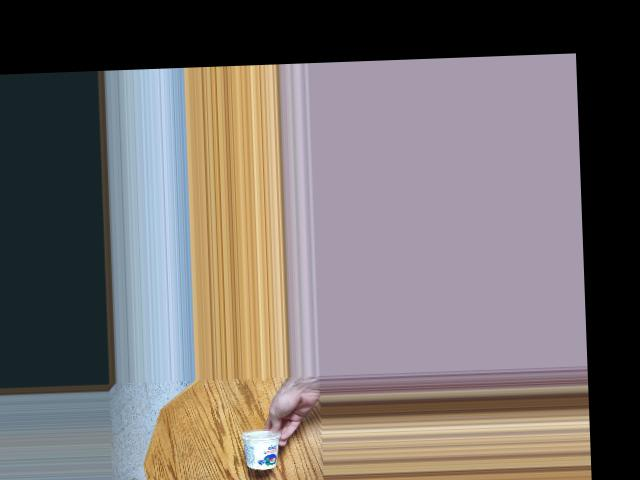cotage: (237, 421, 289, 470)
